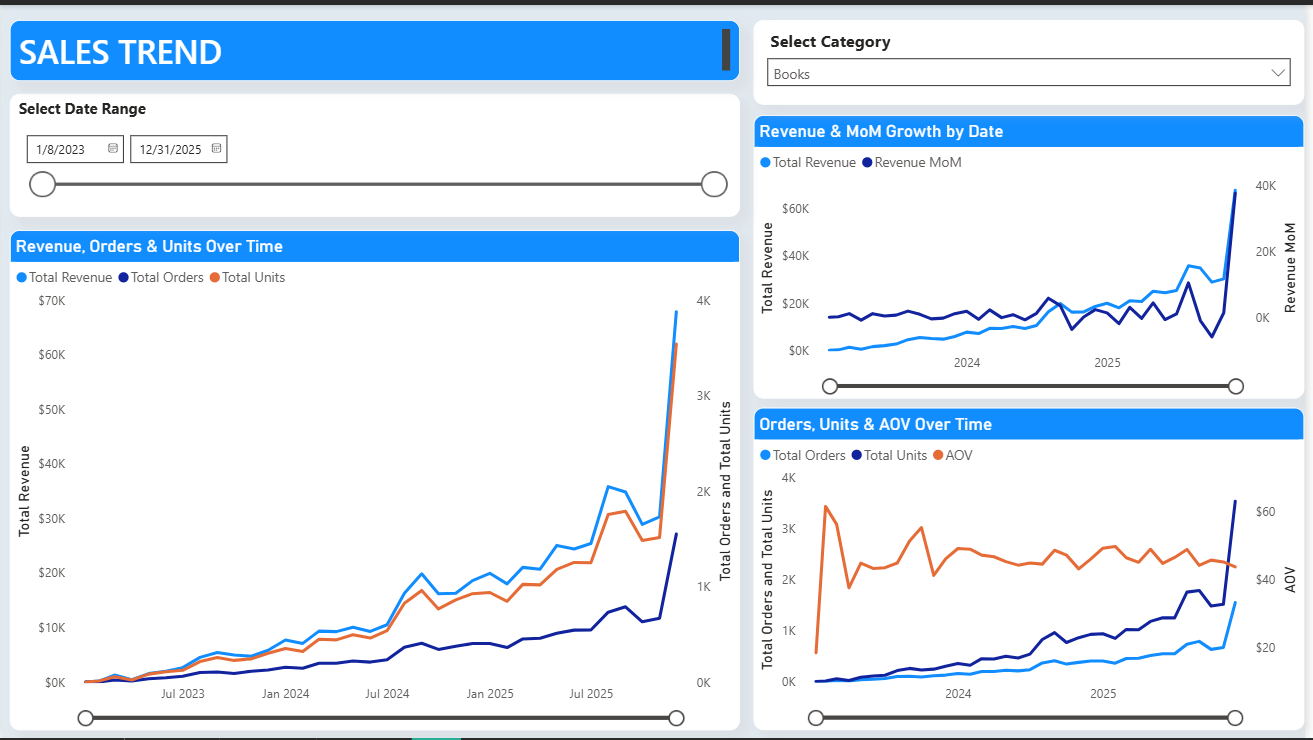

The dashboard page shown, as its layout file describes it:
{"tool":"powerbi","page":{"name":"Sales Trend","canvas":[1280,720],"ordinal":1},"visuals":[{"type":"lineChart","title":"Revenue, Orders & Units Over Time","fields":{"Y":["_Measures (2).Total Revenue"],"Y2":["_Measures (2).Total Orders","_Measures (2).Total Units"],"Category":["DimDate.YearMonthDate"]},"box":[8.6,220.9,716.5,491.4],"z":0},{"type":"lineChart","title":"Revenue & MoM Growth by Date","fields":{"Category":["DimDate.YearMonthDate"],"Y":["_Measures (2).Total Revenue"],"Y2":["_Measures (2).Revenue MoM"]},"box":[738.7,108,541.1,278.5],"z":1000},{"type":"lineChart","title":"Orders, Units & AOV Over Time","fields":{"Category":["DimDate.YearMonthDate"],"Y":["_Measures (2).Total Orders","_Measures (2).Total Units"],"Y2":["_Measures (2).AOV"]},"box":[738.7,395.1,541.1,316.6],"z":2000},{"type":"slicer","title":"Select Category","fields":{"Values":["fct_sales_flat.category_name"]},"box":[738.7,14.7,541.1,83.3],"z":3000},{"type":"slicer","title":"Select Date Range","fields":{"Values":["DimDate.Date"]},"box":[8.7,87.1,716.5,120.7],"z":4000},{"type":"textbox","box":[8.7,14.9,716.5,59.7],"z":5000}]}

Visuals, with their boxes in screenshot pixels (x1, y1, x2, y2), scaled from the page's 1280x720 canvas onto the 1313x740 screenshot:
"Revenue, Orders & Units Over Time" lineChart: crop(9, 227, 744, 732)
"Revenue & MoM Growth by Date" lineChart: crop(758, 111, 1312, 397)
"Orders, Units & AOV Over Time" lineChart: crop(758, 406, 1312, 731)
"Select Category" slicer: crop(758, 15, 1312, 101)
"Select Date Range" slicer: crop(9, 90, 744, 214)
textbox: crop(9, 15, 744, 77)
